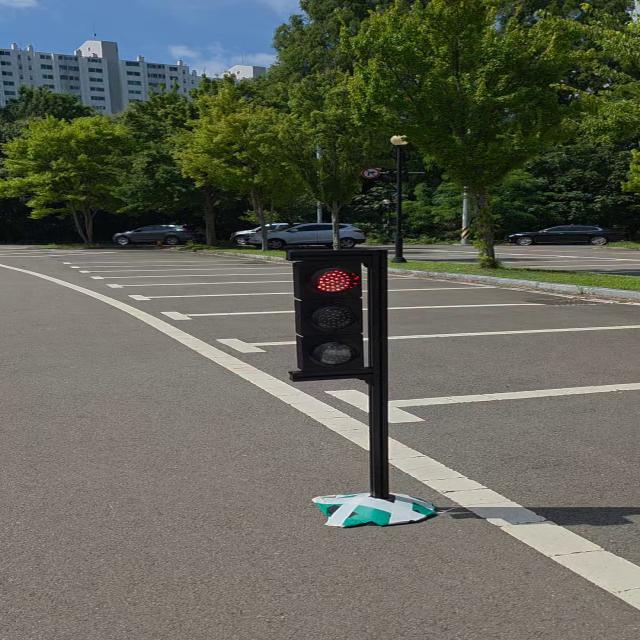red: (286, 252, 385, 371)
